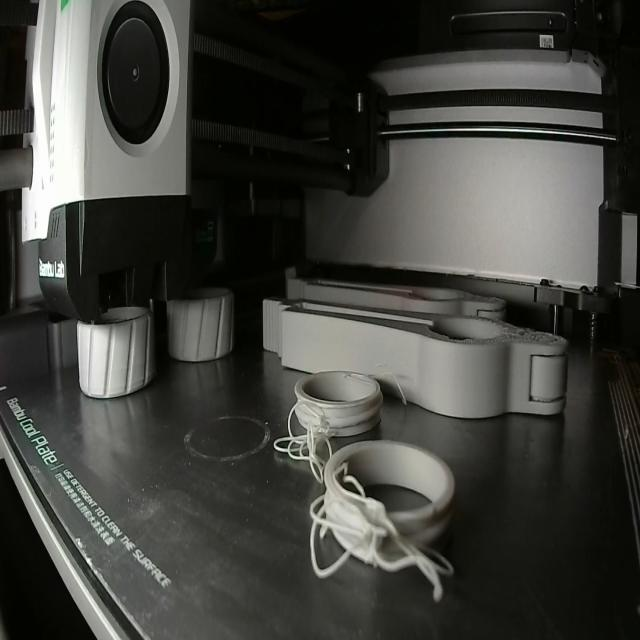spaghetti: (272, 397, 458, 608)
